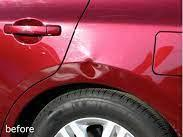dent: (11, 53, 120, 90)
